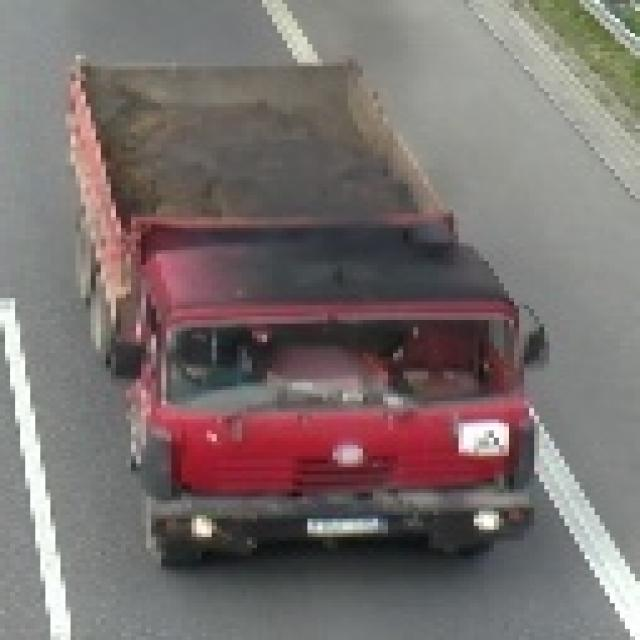truck: (56, 51, 550, 607)
